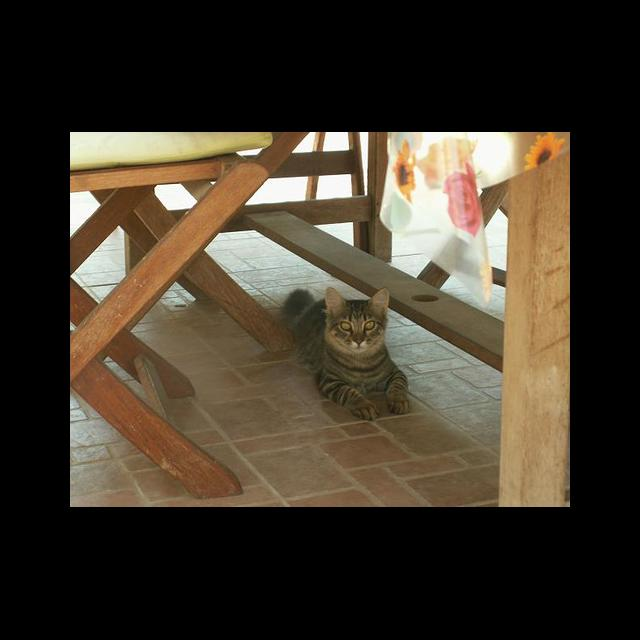animals: (328, 288, 385, 344)
